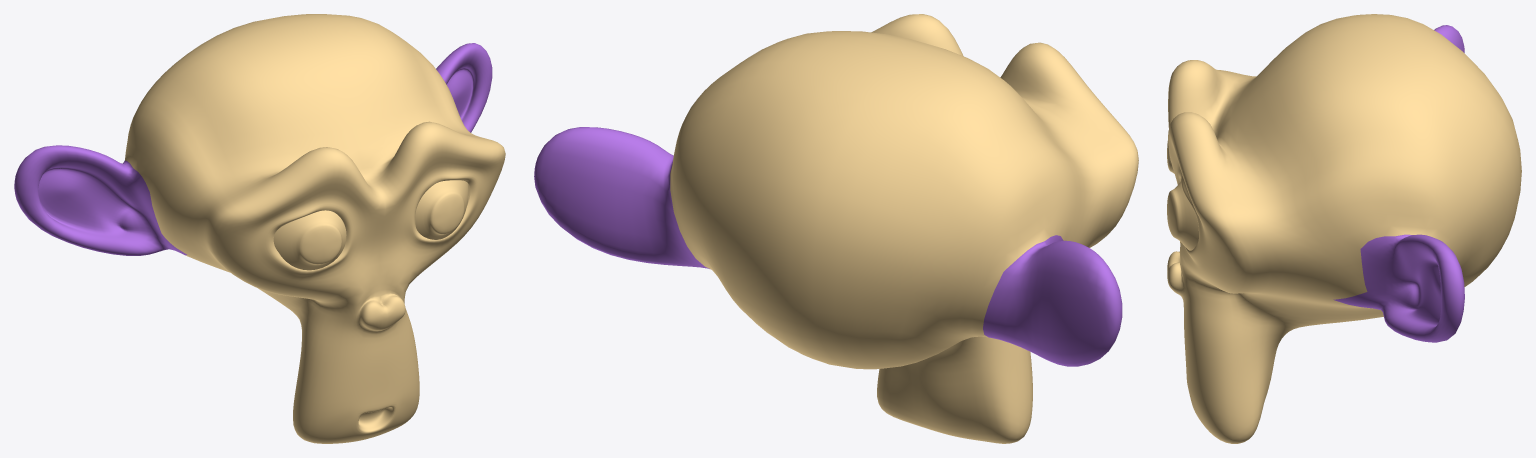
The model's file is SuzannePisincipledBSDFMultiMaterial.glb.
3 renders of one model, left to right at view 1: azimuth 30°, elevation 25°; view 2: azimuth 150°, elevation 25°; view 3: azimuth 270°, elevation 25°, orthographic. The views are drawn at different scales.
Visible parts, largest first — view 1: Suzanne; view 2: Suzanne; view 3: Suzanne.
Part boxes in pixels (x1=…): Suzanne: x1=14, y1=14, x2=505, y2=443; Suzanne: x1=534, y1=14, x2=1138, y2=443; Suzanne: x1=1167, y1=14, x2=1521, y2=443.
Size of the model in its own units: 2.66 by 1.91 by 1.6.
